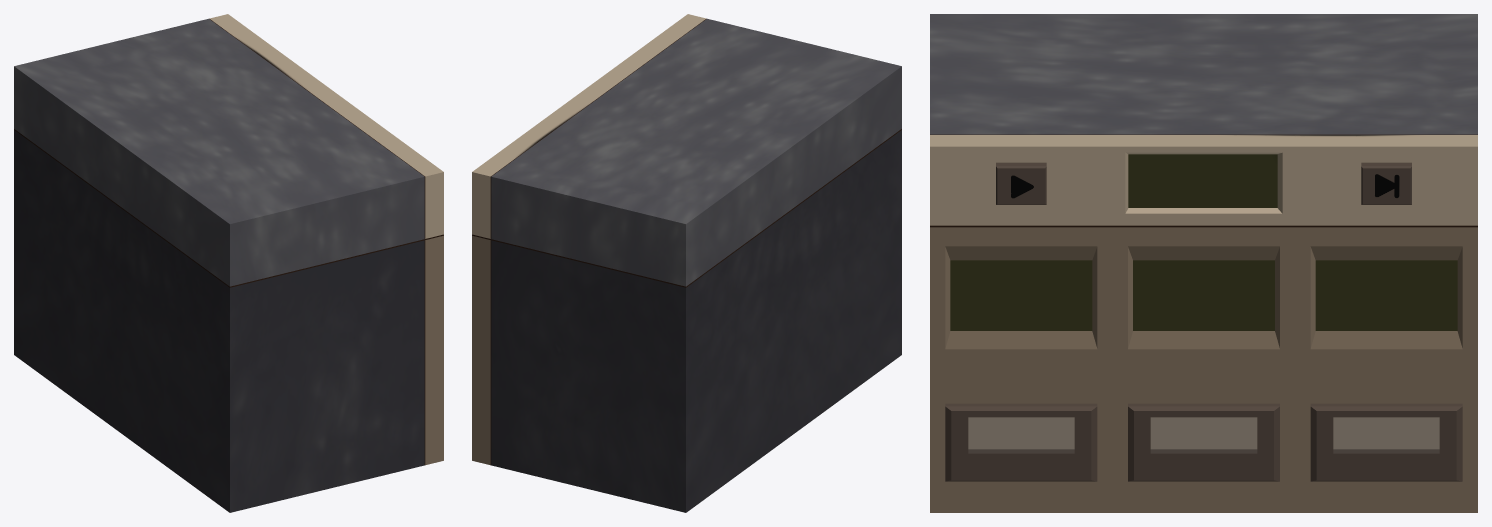
Rendered from odtwarzacz_new.fbx.
The picture shows the model from 3 angles, left to right: view 1: azimuth 30°, elevation 25°; view 2: azimuth 150°, elevation 25°; view 3: azimuth 270°, elevation 25°; orthographic projection. The views are drawn at different scales.
Visible parts, largest first — view 1: odtwarzacz; view 2: odtwarzacz; view 3: odtwarzacz, pokrywka_l, pokrywka_p, pokrywka_s, odtwarzacz_play, odtwarzacz_skip.
Boxes of the visible parts, left/top/right/bottom form: odtwarzacz: left=14, top=14, right=443, bottom=512; odtwarzacz: left=472, top=14, right=901, bottom=512; odtwarzacz: left=930, top=14, right=1477, bottom=512; pokrywka_l: left=945, top=403, right=1097, bottom=481; pokrywka_p: left=1310, top=403, right=1462, bottom=481; pokrywka_s: left=1128, top=403, right=1279, bottom=481; odtwarzacz_play: left=996, top=162, right=1046, bottom=204; odtwarzacz_skip: left=1361, top=162, right=1411, bottom=204.
Size of the model in its own units: 8.65 by 10.79 by 14.62.
Materials: 2 (1 with a texture image).
